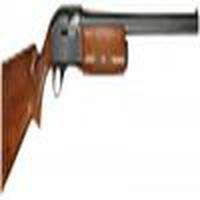gun: (1, 4, 199, 183)
